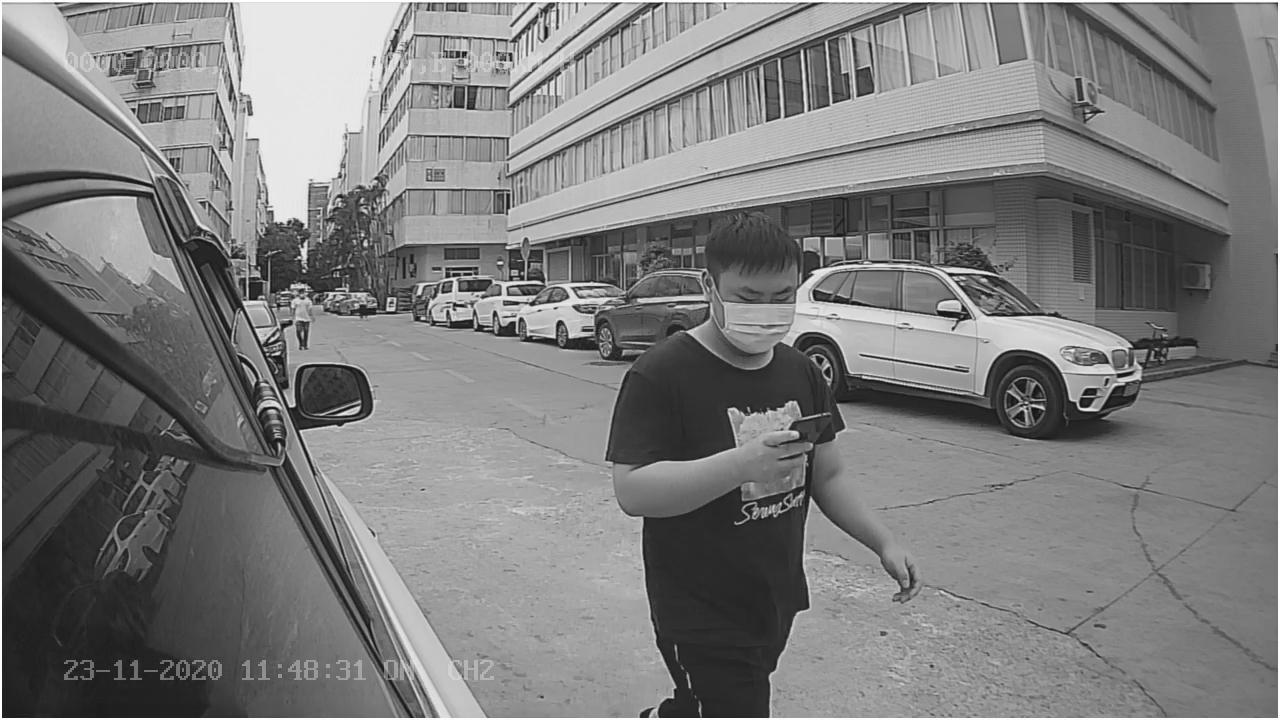person: (608, 206, 922, 611)
